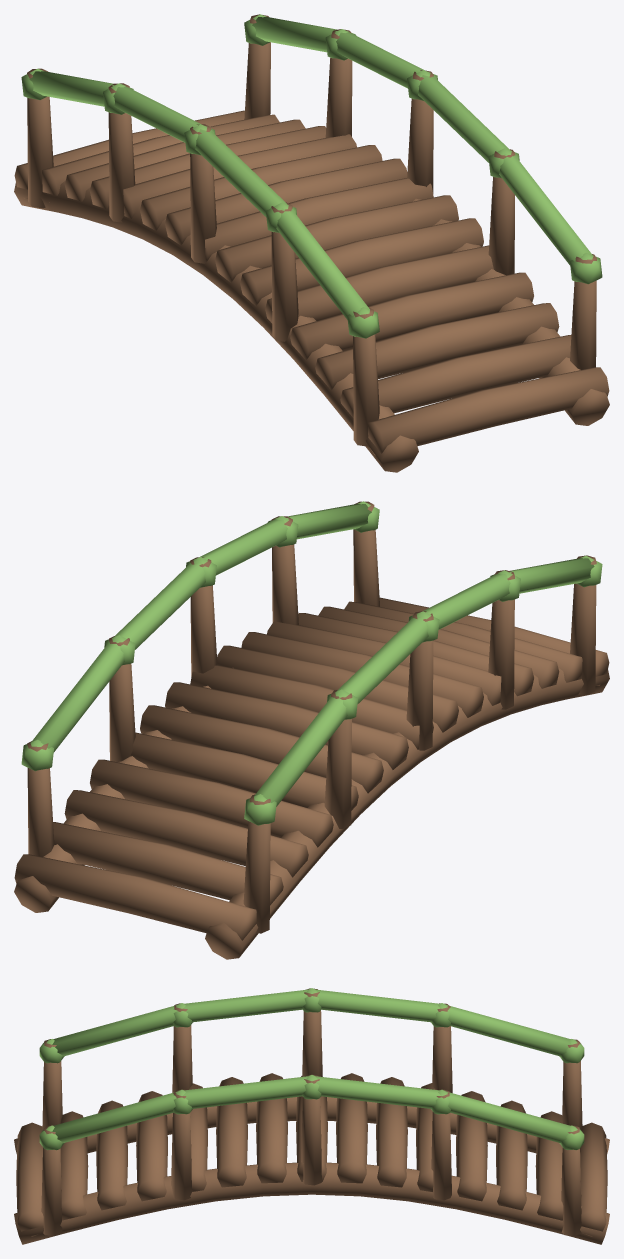
The model's file is SM_Forest_TwigBridge.fbx.
The picture shows the model from 3 angles, top to bottom: view 1: azimuth 30°, elevation 25°; view 2: azimuth 150°, elevation 25°; view 3: azimuth 270°, elevation 25°; orthographic projection. The views are drawn at different scales.
Visible parts, largest first — view 1: SM_Forest_TwigBridge; view 2: SM_Forest_TwigBridge; view 3: SM_Forest_TwigBridge.
Part boxes in pixels (x1,y1,x2,y2): SM_Forest_TwigBridge: (14, 14, 609, 472); SM_Forest_TwigBridge: (14, 501, 609, 959); SM_Forest_TwigBridge: (14, 988, 609, 1244).
Bounding box in the file's own units: 174 × 145 × 447.
